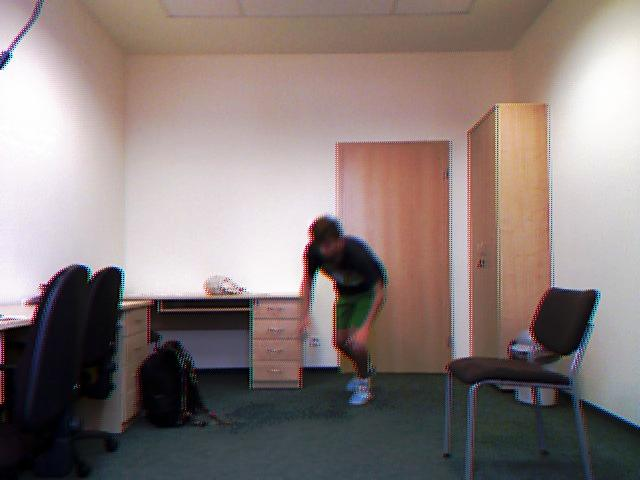near-fall: (284, 209, 396, 413)
